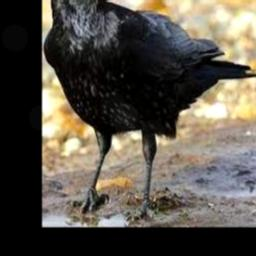Crow: (43, 0, 256, 220)
